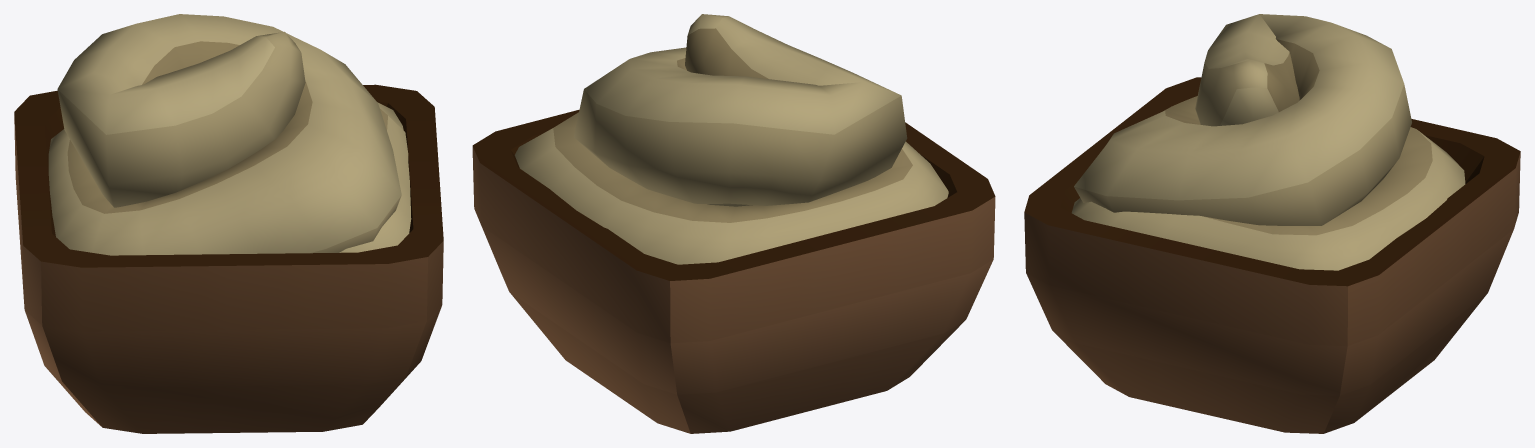
Rendered from 3D_Chopper_Items_Smashed-potatoes.fbx.
3 renders of one model, left to right at view 1: azimuth 30°, elevation 25°; view 2: azimuth 150°, elevation 25°; view 3: azimuth 270°, elevation 25°, orthographic. The views are drawn at different scales.
Parts seen in each view (by area): view 1: 3D_Chopper_Items_Smashed-potatoes; view 2: 3D_Chopper_Items_Smashed-potatoes; view 3: 3D_Chopper_Items_Smashed-potatoes.
Part boxes in pixels (left/top/right/bottom): 3D_Chopper_Items_Smashed-potatoes: left=14, top=14, right=443, bottom=433; 3D_Chopper_Items_Smashed-potatoes: left=472, top=14, right=995, bottom=433; 3D_Chopper_Items_Smashed-potatoes: left=1024, top=14, right=1520, bottom=433.
Size of the model in its own units: 81.7 by 57.48 by 82.04.
